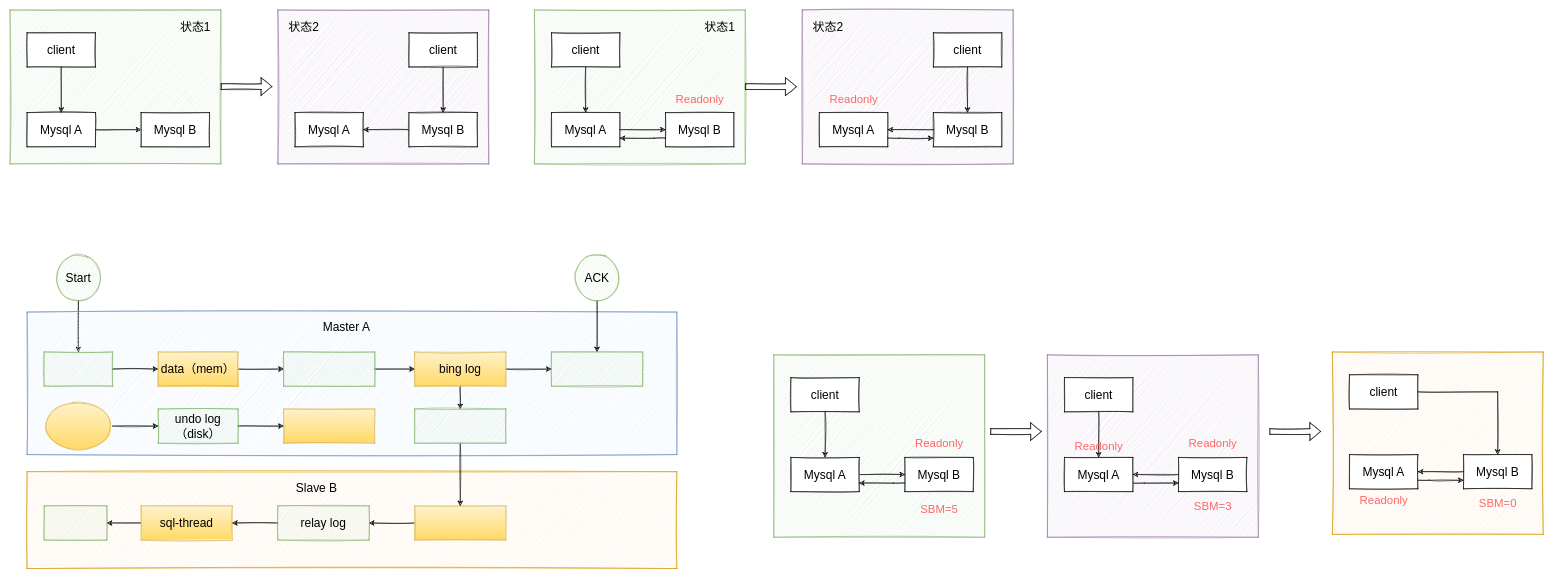
The diagram is 1553 pixels wide and 579 high, and some of its shapes have lost their labels. Here are the shapes that lost their labels. From the top down, the centre of each, then its label:
At (78,368): "undo log".
At (329,368): "redo log （prepare）".
At (597,368): "redo log （commit）".
At (78,426): "by-thread".
At (329,425): "data（disk）".
At (460,425): "dump_thread".
At (75,522): "data".
At (460,522): "IO——thread".
